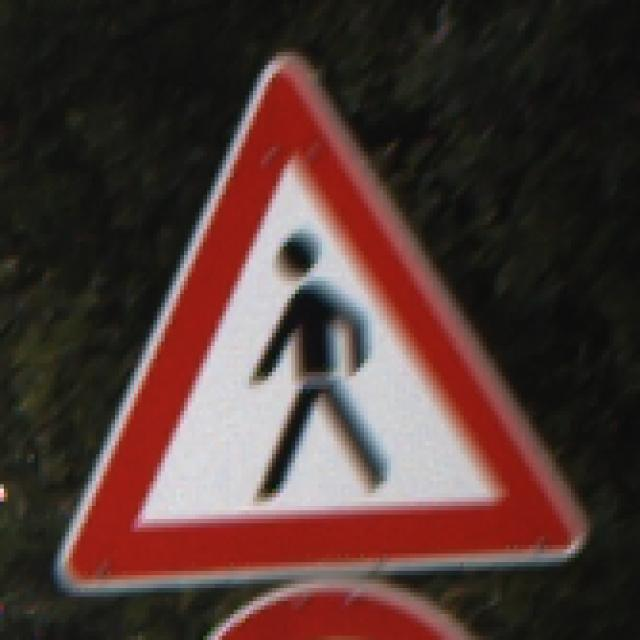pedestrian crossing: (49, 46, 594, 602)
